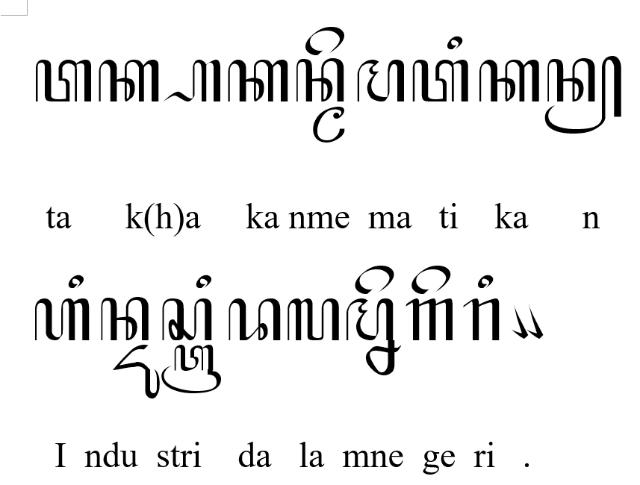-n: (544, 56, 622, 134)
_du: (112, 345, 160, 399)
_h: (162, 59, 222, 103)
_m: (312, 106, 344, 143)
d: (228, 298, 282, 341)
e: (355, 264, 395, 296), (411, 265, 452, 295), (305, 26, 345, 56)
g: (406, 298, 454, 341)
h: (34, 298, 90, 341)
i: (478, 274, 494, 290), (447, 36, 463, 50), (68, 275, 84, 289), (195, 275, 211, 289)
k: (98, 59, 160, 103), (478, 59, 540, 103), (228, 59, 288, 103)
kom: (510, 304, 528, 340), (526, 304, 544, 340)
l: (286, 297, 340, 341)
m: (356, 58, 404, 102)
mn: (346, 298, 402, 374)
n: (100, 296, 150, 341), (296, 58, 344, 102)
r: (462, 298, 500, 340)
s: (162, 298, 212, 341)
t: (411, 59, 469, 103), (36, 59, 92, 102)
tr: (162, 344, 222, 394)
